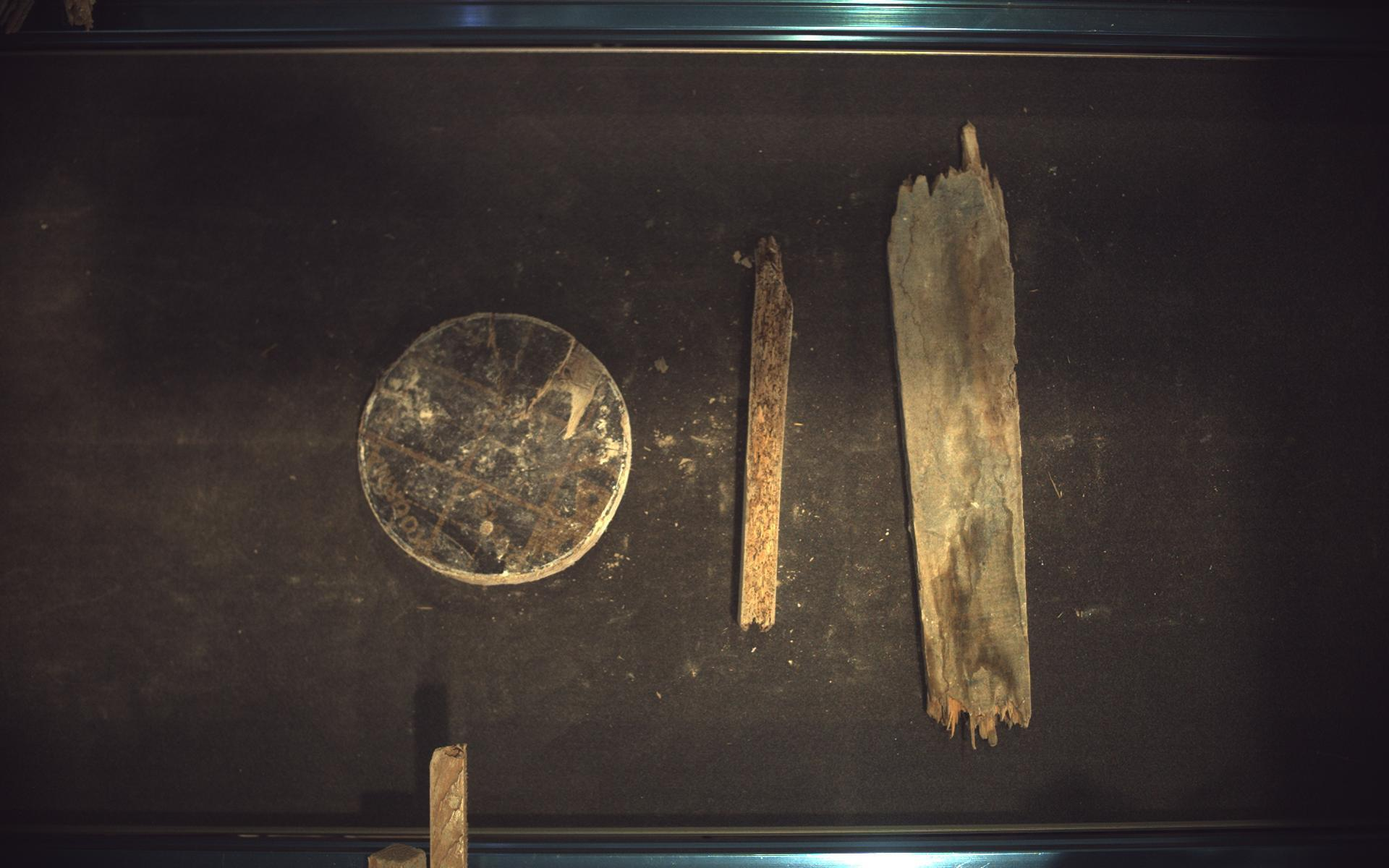wood: (890, 122, 1034, 748), (358, 313, 632, 586), (739, 236, 794, 631), (430, 745, 468, 868), (368, 845, 427, 868)
